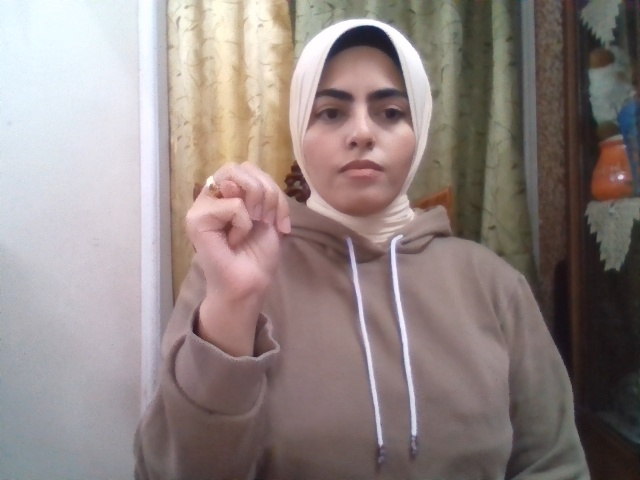M: (186, 161, 290, 309)
